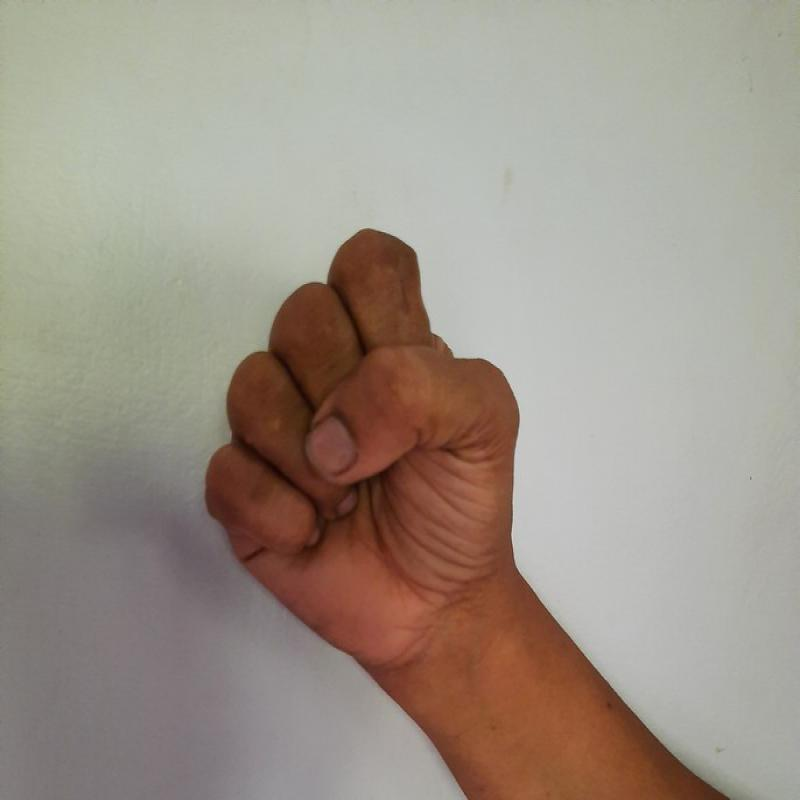Mushti: (190, 214, 546, 667)
